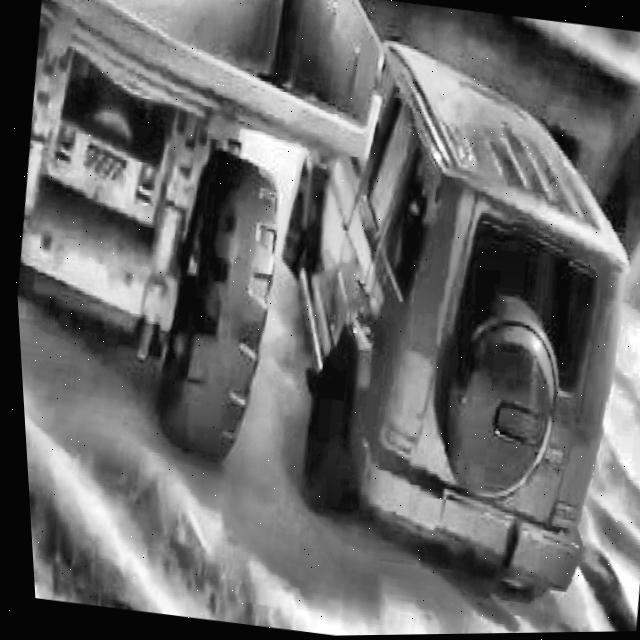dump_truck: (0, 0, 355, 489)
light_vehicle: (316, 72, 640, 602)
